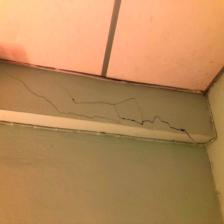High: (1, 63, 221, 159)
